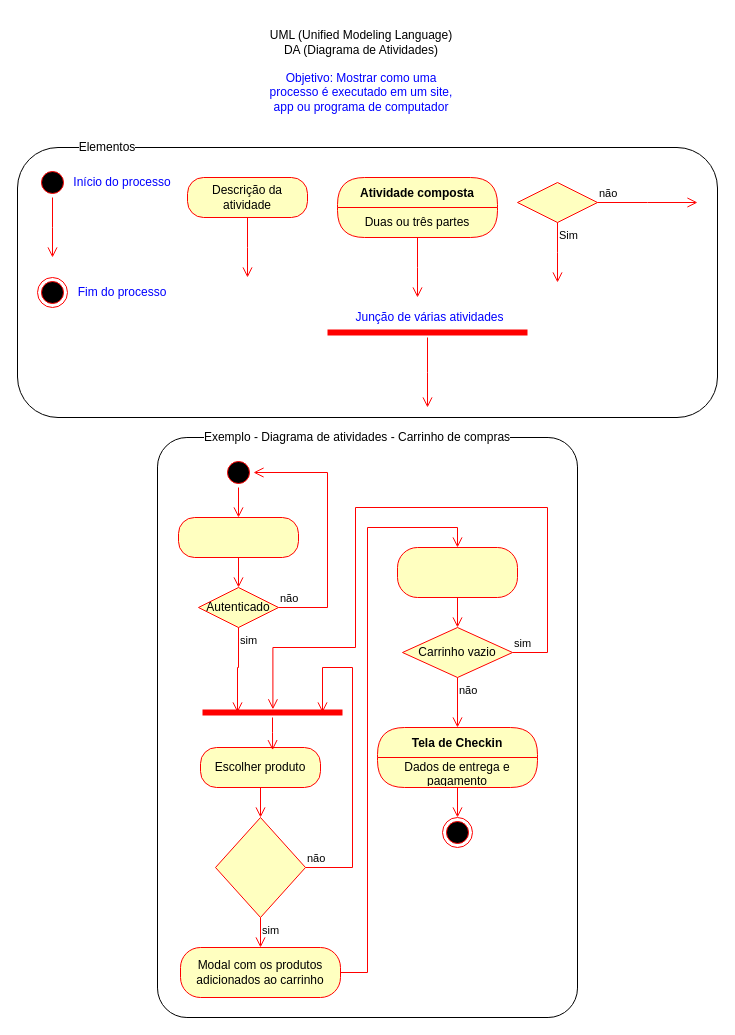
Some shapes in this 735 by 1035 pixel diagram are drawn without their labels. The centre of each missing label's shape, as x and y in pixels:
"Clicar em adicionar ao carrinho" goes at [260,867].
"Clicar em concluir compra" goes at [457,572].
"Condição" goes at [557,202].
"Fazer Login" goes at [238,537].
